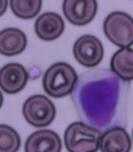L: (69, 67, 132, 134)
